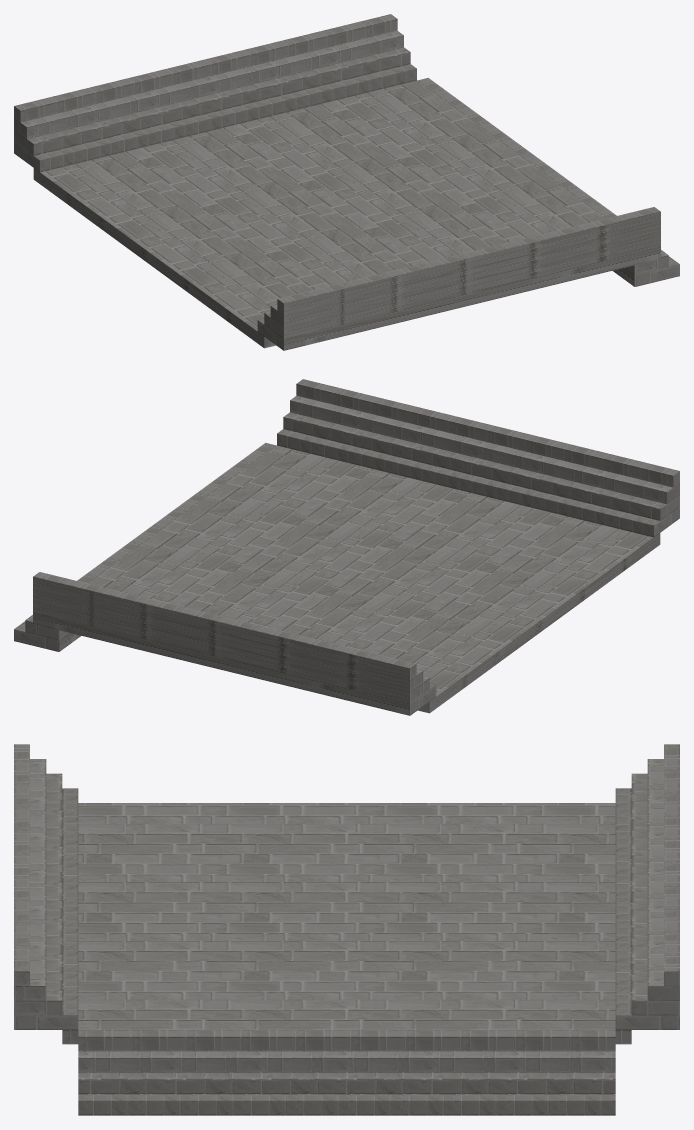
File: EscaliersQuiTourne.fbx
The picture shows the model from 3 angles, top to bottom: view 1: azimuth 30°, elevation 25°; view 2: azimuth 150°, elevation 25°; view 3: azimuth 270°, elevation 25°; orthographic projection. The views are drawn at different scales.
Parts seen in each view (by area): view 1: Cube.008; view 2: Cube.008; view 3: Cube.008.
Boxes of the visible parts, x1,y1,x2,y2 form: Cube.008: (14,14,679,350); Cube.008: (14,379,679,715); Cube.008: (14,744,679,1115).
Size of the model in its own units: 1120 by 240 by 1240.
